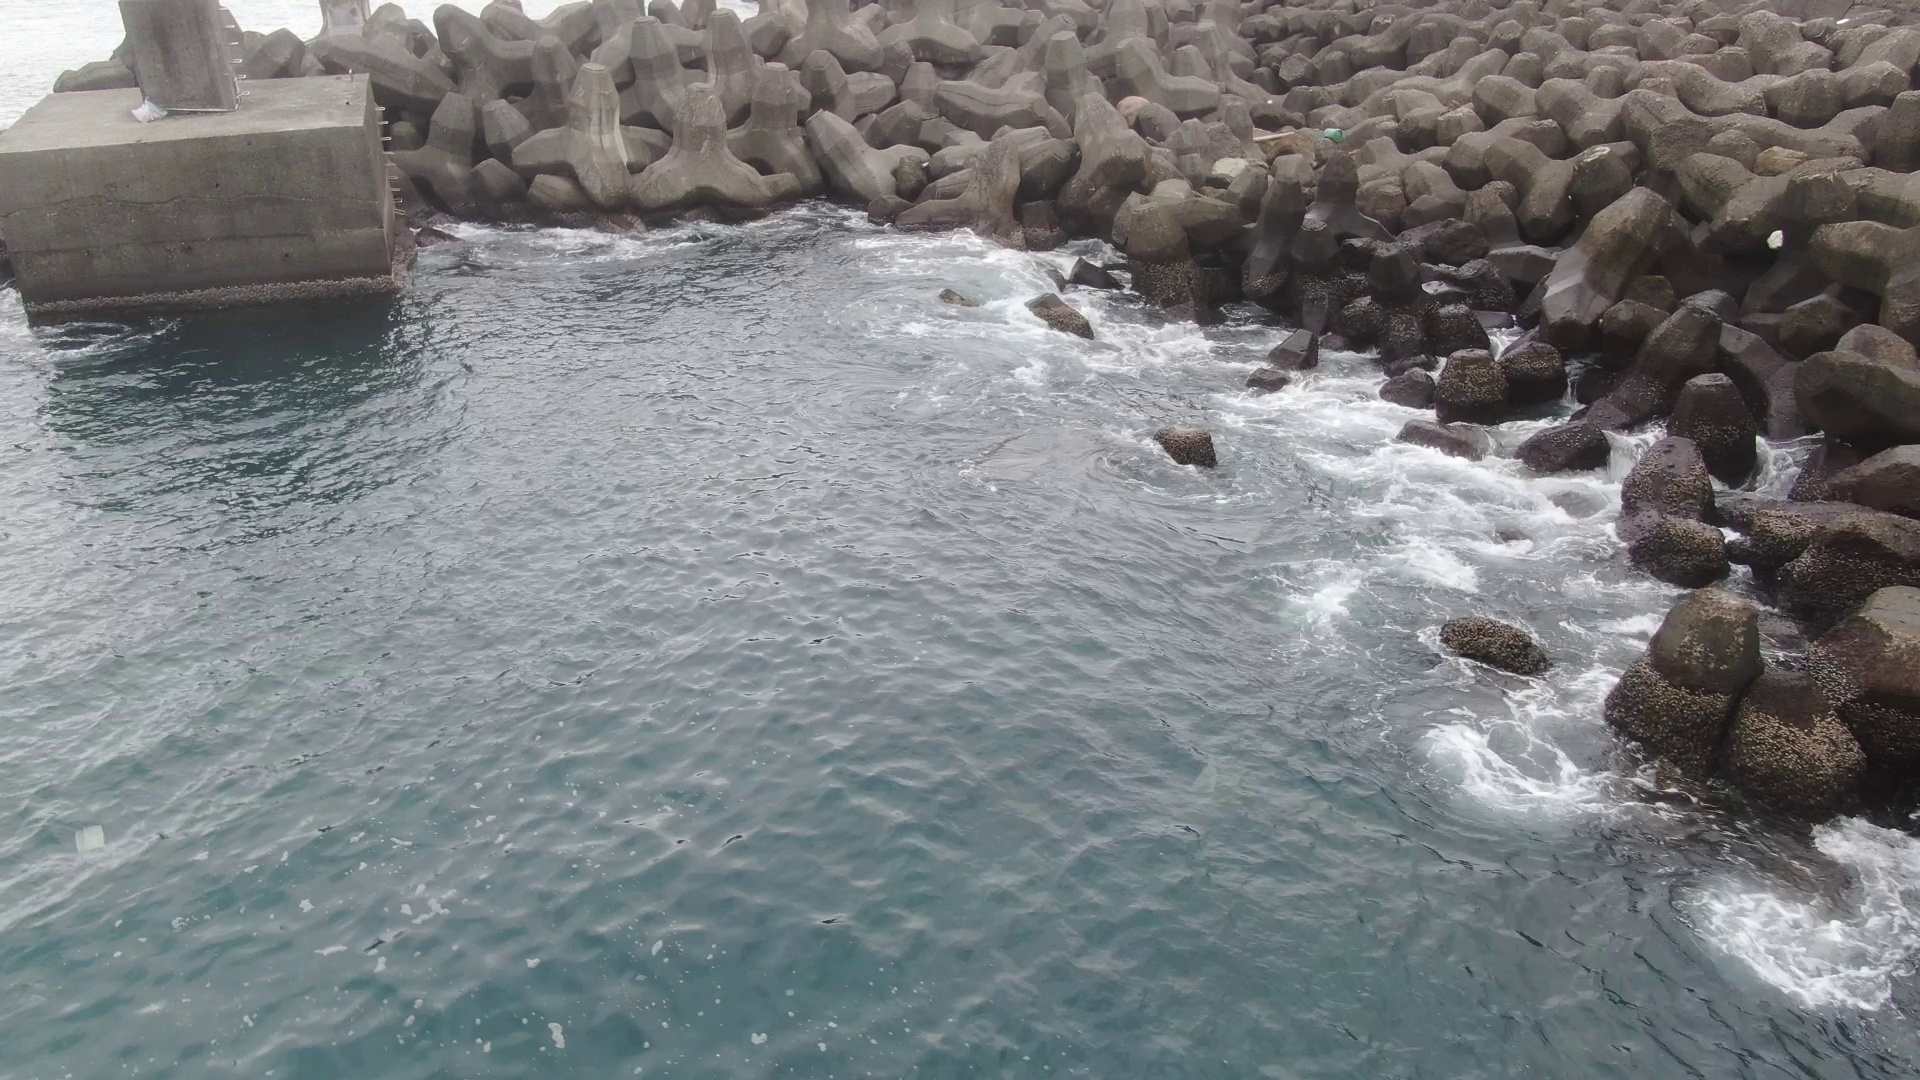garbage: (131, 98, 167, 123), (1324, 127, 1345, 142)
